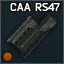AK CAA RS47 handguard: (0, 0, 64, 64)
